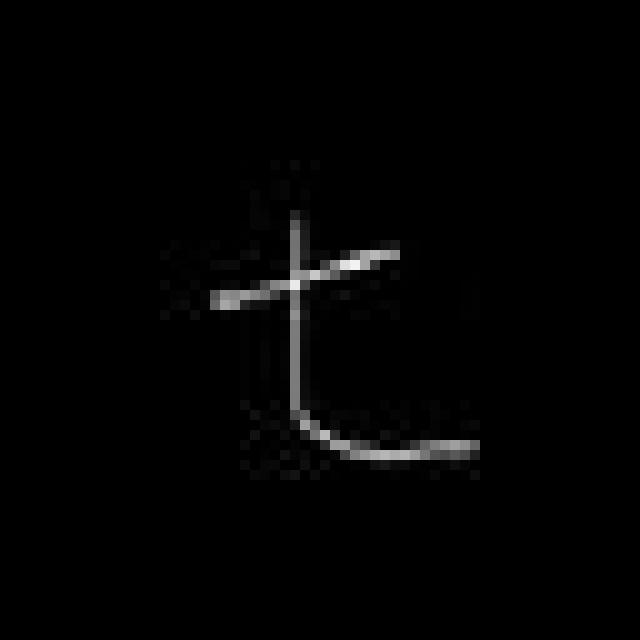7 -seven-: (198, 206, 497, 473)
